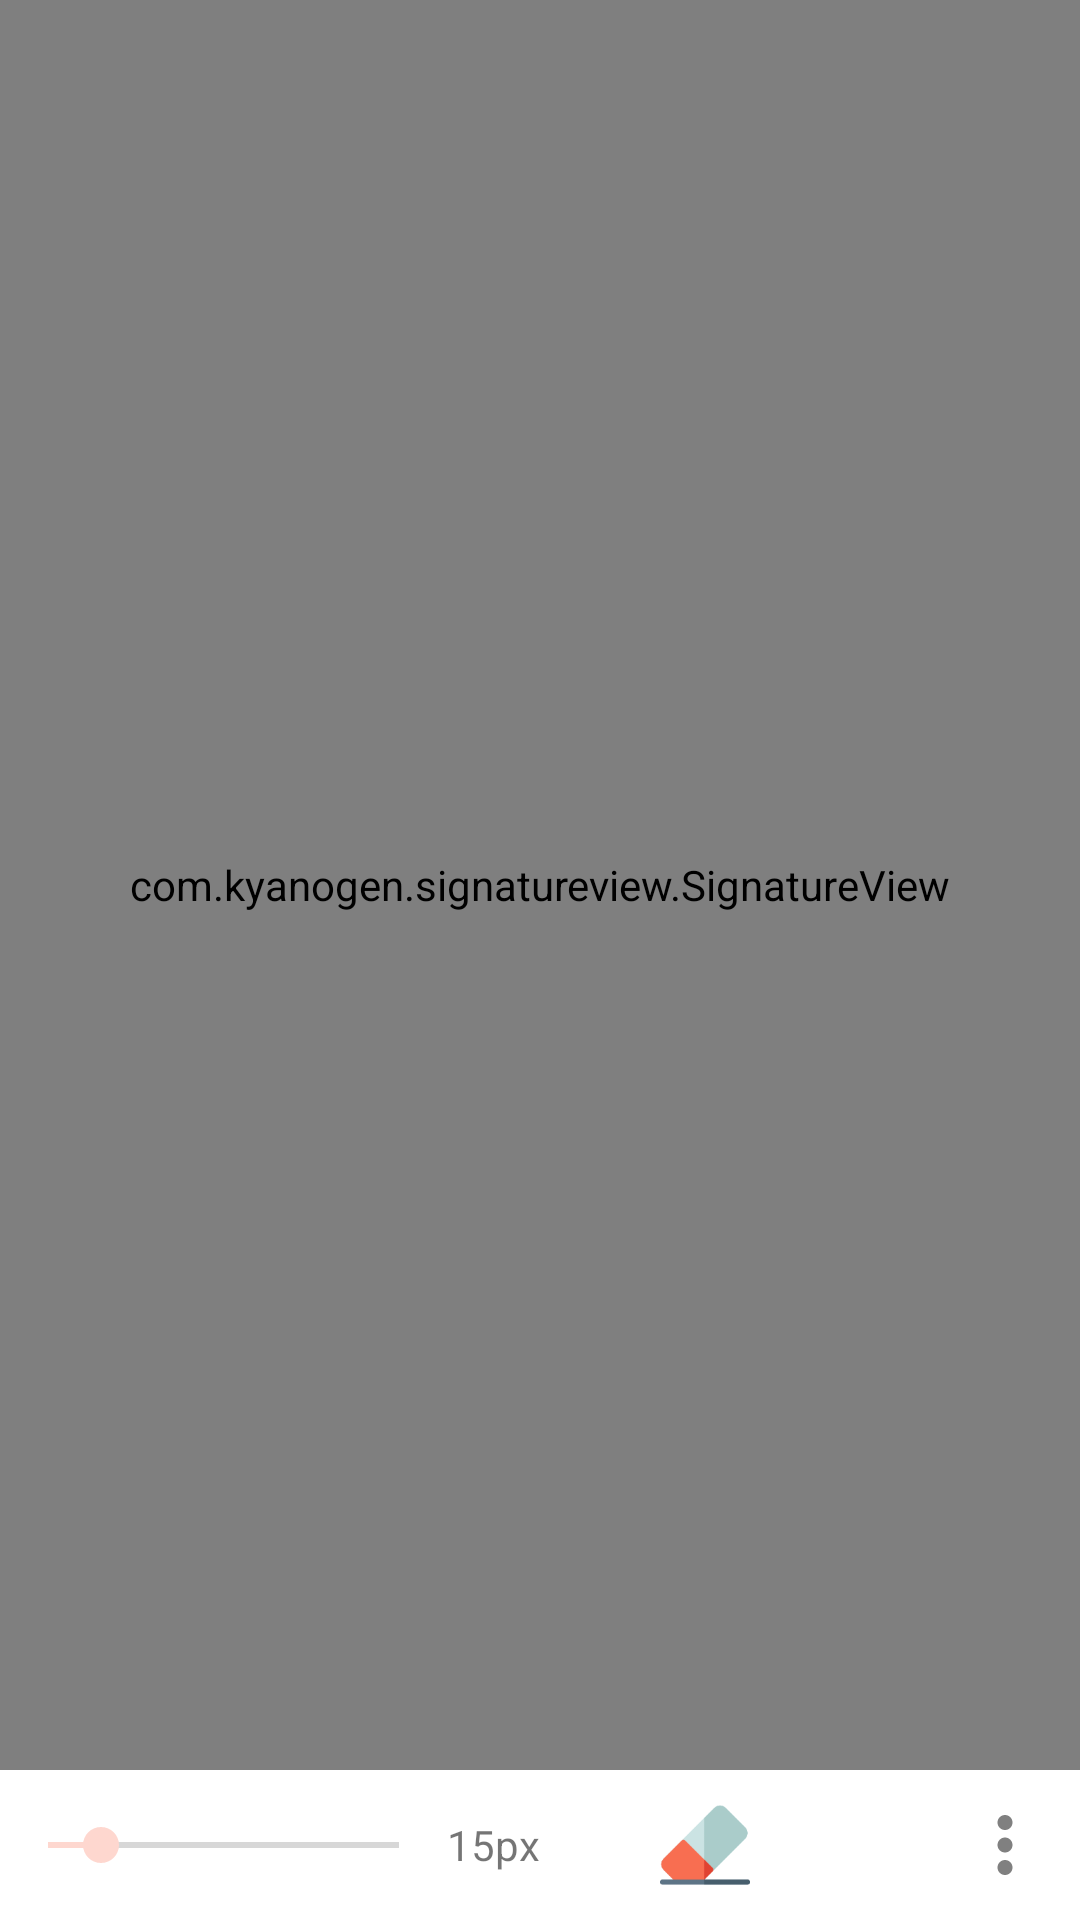

Locate icon controls on the screen. Image size 1080px×1920px, boxes as (x1, y1, x2, y2).
eraser: (660, 1805, 750, 1885)
more: (997, 1815, 1013, 1875)
